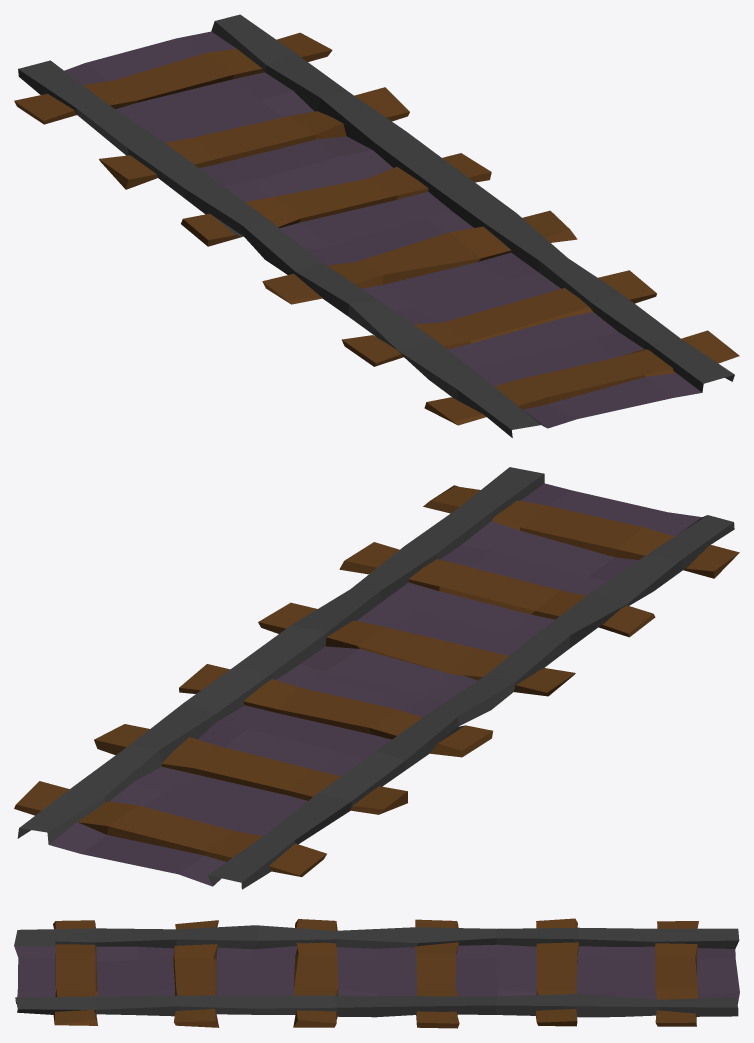
The model's file is trainTrack.fbx.
3 renders of one model, top to bottom at view 1: azimuth 30°, elevation 25°; view 2: azimuth 150°, elevation 25°; view 3: azimuth 270°, elevation 25°, orthographic. The views are drawn at different scales.
Parts seen in each view (by area): view 1: Tunnel; view 2: Tunnel; view 3: Tunnel.
Part boxes in pixels (x1=…): Tunnel: x1=14, y1=14, x2=739, y2=437; Tunnel: x1=14, y1=467, x2=739, y2=889; Tunnel: x1=14, y1=918, x2=739, y2=1028.
Size of the model in its own units: 614 by 38.64 by 1812.
